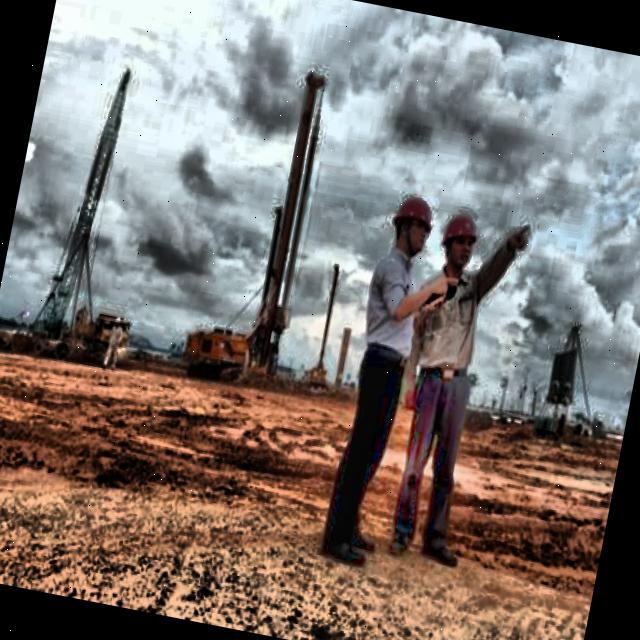helmet: (382, 182, 444, 264), (432, 198, 484, 286)
